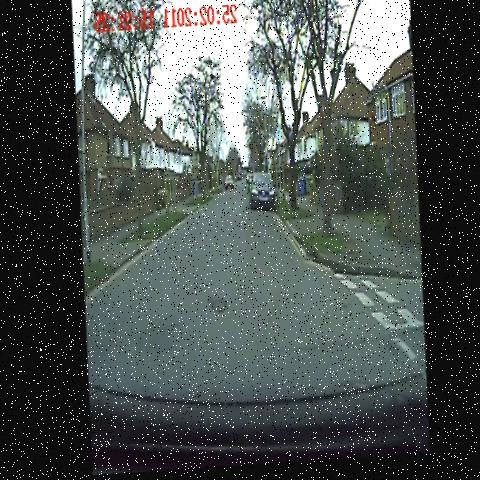pothole: (189, 287, 235, 336)
